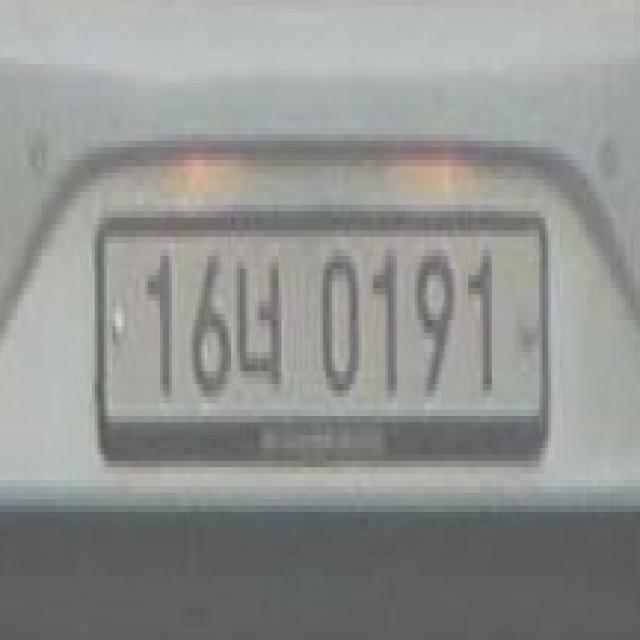0: (317, 237, 364, 416)
1: (139, 230, 190, 422), (364, 230, 409, 416), (459, 236, 501, 409)
6: (190, 237, 234, 422)
9: (409, 243, 459, 410)
license_plate: (86, 198, 557, 474)
neo: (234, 243, 287, 403)
